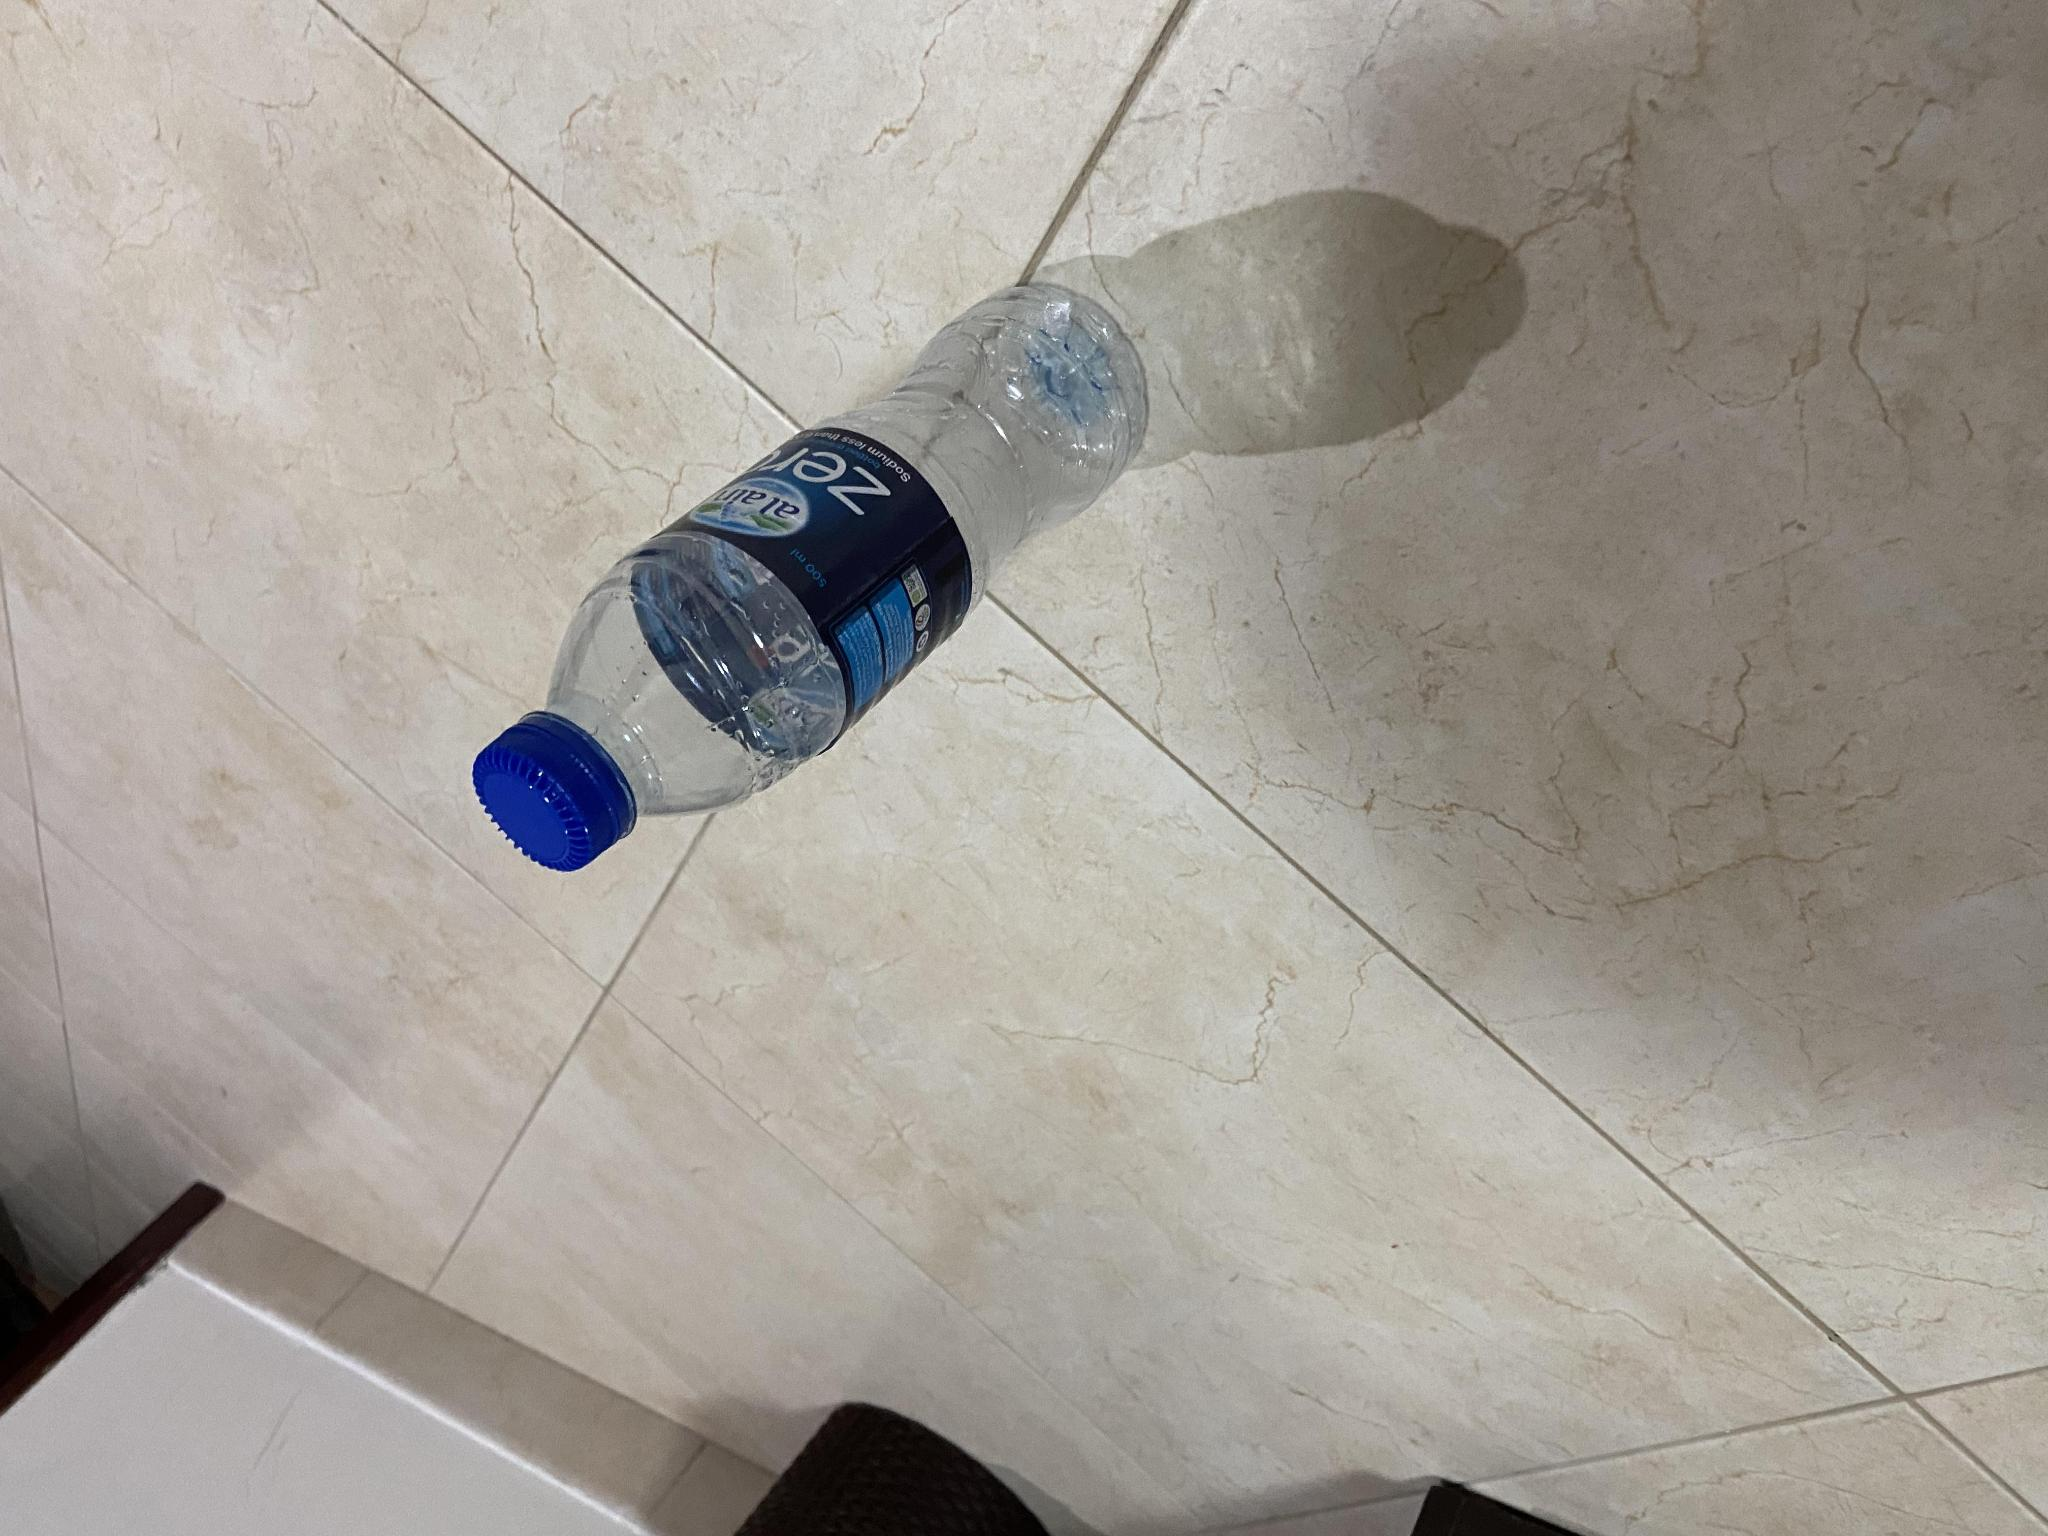bottle: (440, 255, 1185, 892)
